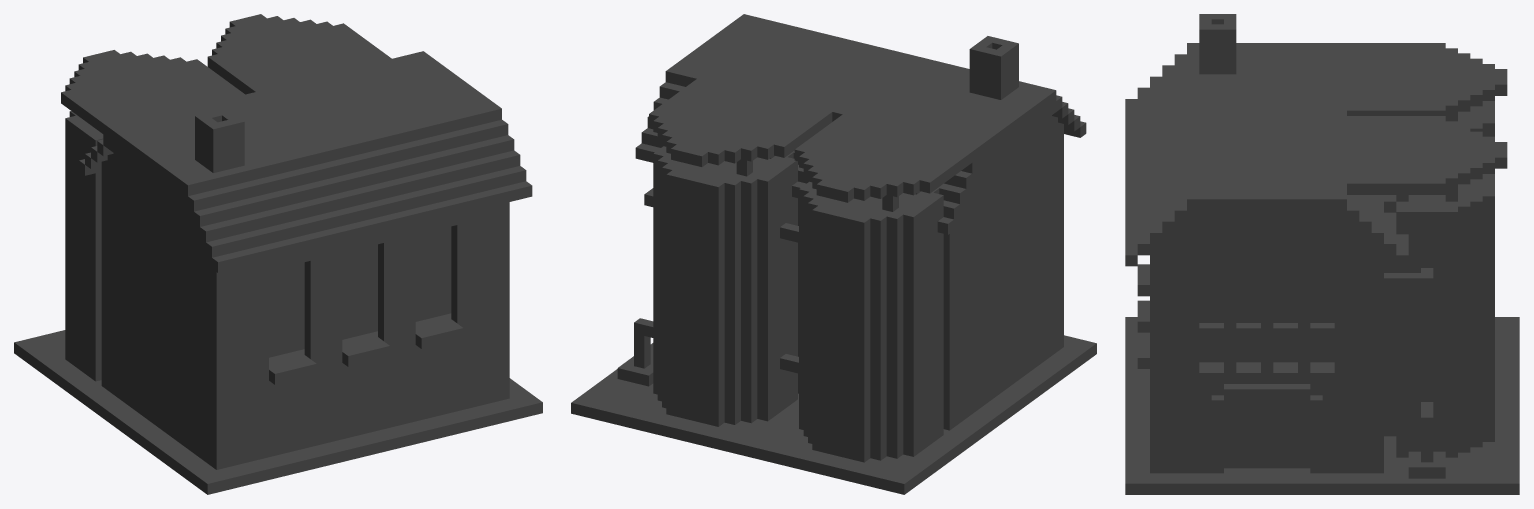
Rendered from fabrica-4.obj.
3 views of the same model, side by side, from view 1: azimuth 30°, elevation 25°; view 2: azimuth 150°, elevation 25°; view 3: azimuth 270°, elevation 25° (orthographic). The views are drawn at different scales.
Size of the model in its own units: 3.2 by 3 by 3.2.
